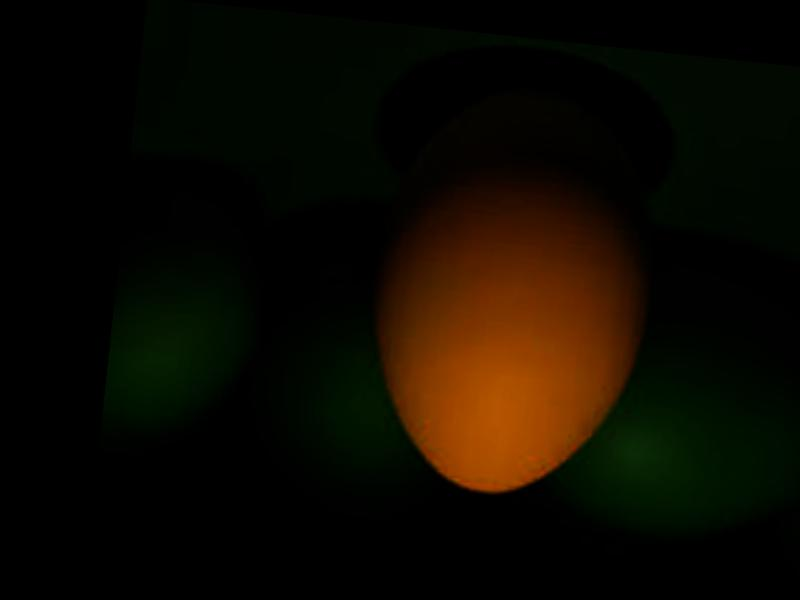Eggs: (353, 72, 671, 506)
